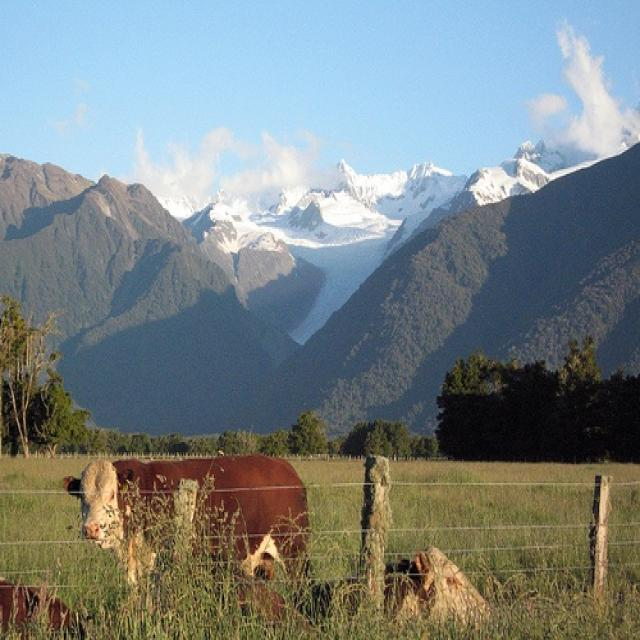cow: (60, 445, 311, 594)
